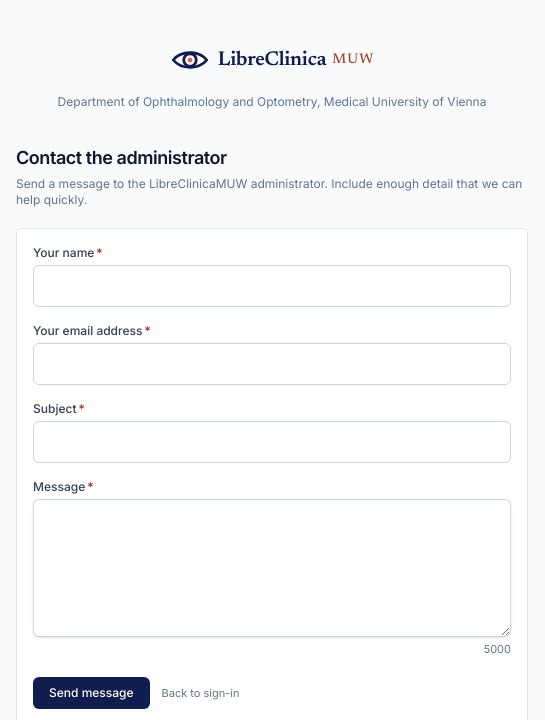
Test case: ContactView › shows the unavailable copy when the backend returns 503
This screenshot has width=545, height=720.
Type "Anne Tester" into the field with id "contact-name" at coordinates (272, 286), box [33,264,511,306]
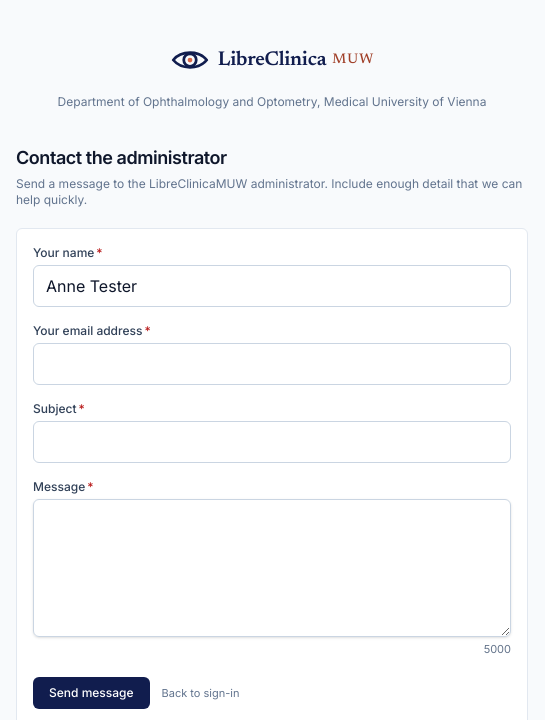
Type "anne@example.org" into the field with id "contact-email" at coordinates (272, 364), box [33,342,511,384]
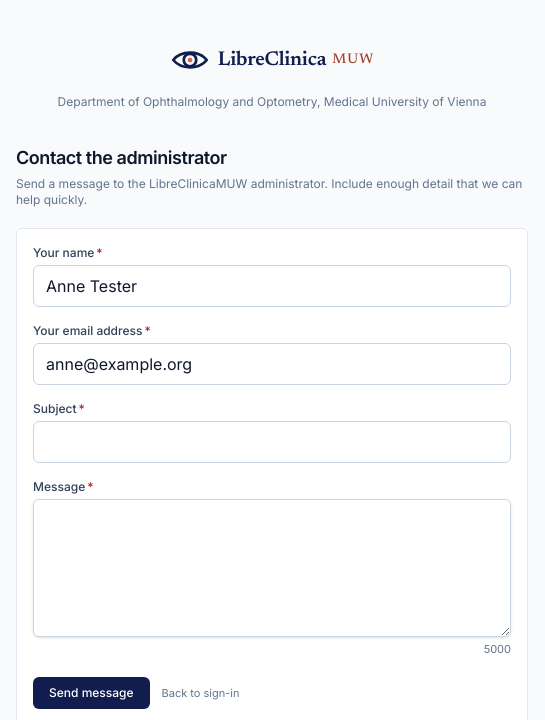
Type "CRF rendering issue" into the field with id "contact-subject" at coordinates (272, 442), box [33,420,511,462]
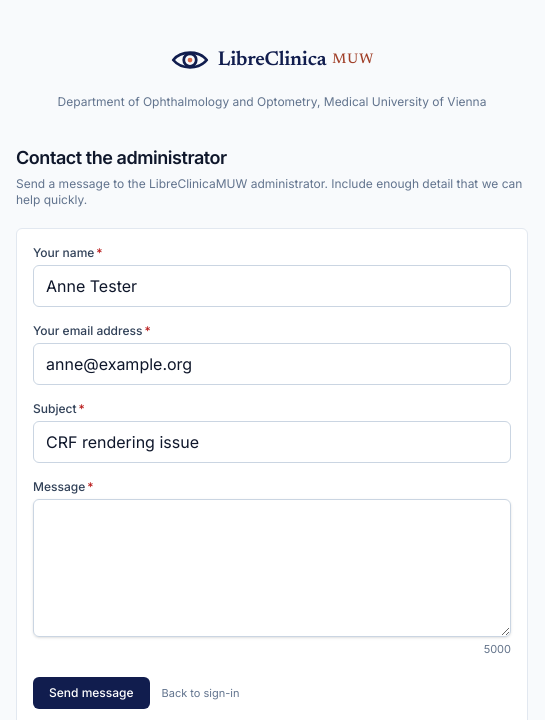
Type "I see a blank panel on visit 3." into the text box with id "contact-message" at coordinates (272, 568), box [33,498,511,636]
(page scrolled)
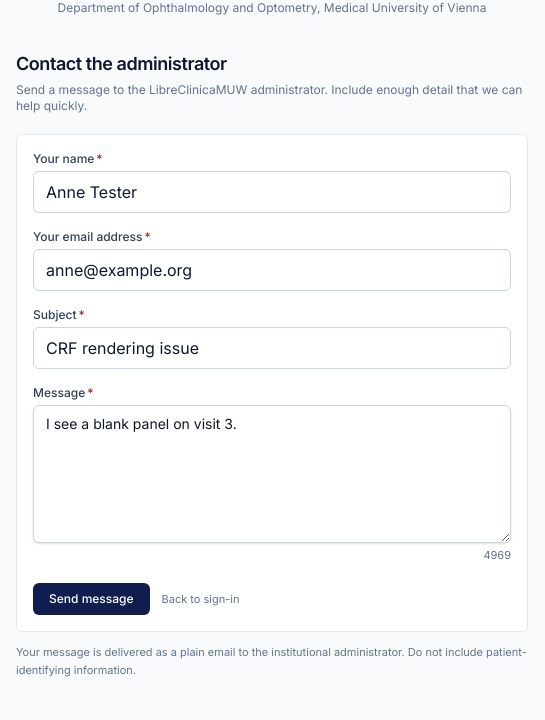
Submit the form
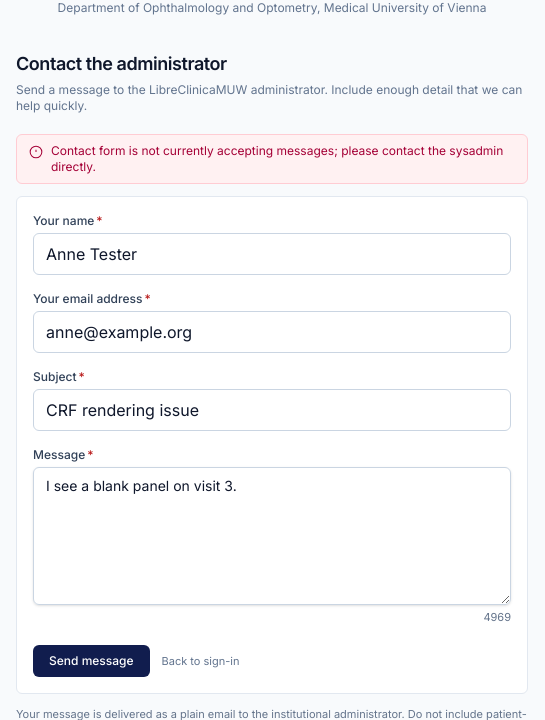
Result: the text "not currently accepting messages" is shown at [51,142,503,174]
